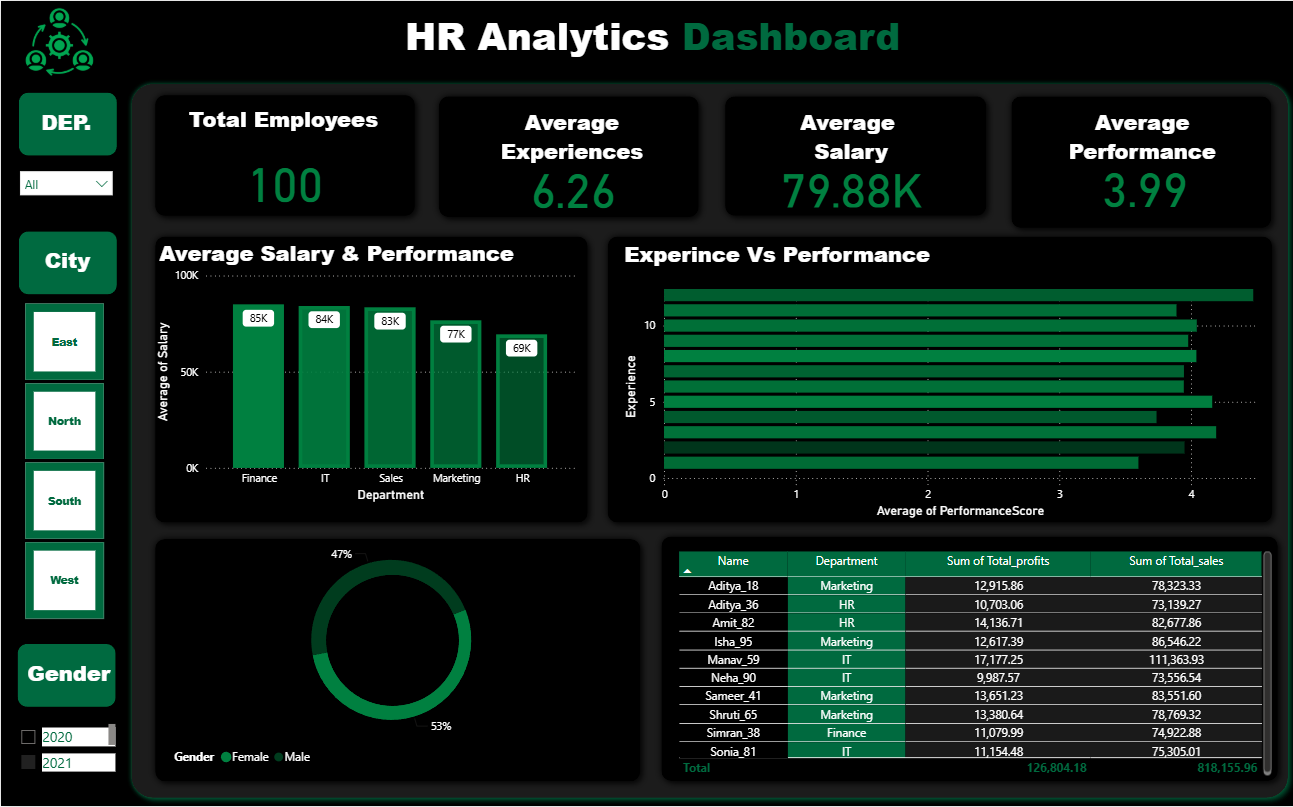

What the dashboard file says about the page in this screenshot:
{"tool":"powerbi","page":{"name":"Page 1","canvas":[1480,920],"ordinal":0},"visuals":[{"type":"shape","box":[140,86,1340,834],"z":0},{"type":"shape","box":[12,254,130,90],"z":0,"group":"g2"},{"type":"shape","box":[166,106,250,160],"z":1000},{"type":"group","id":"g1","title":"Group 1","box":[2,274,140,438],"z":1000,"group":"g2"},{"type":"shape","box":[424,106,250,160],"z":2000},{"type":"shape","box":[686,106,250,160],"z":3000},{"type":"shape","box":[1214,104,250,160],"z":4000},{"type":"shape","box":[952,104,250,160],"z":5000},{"type":"shape","box":[664,264,800,380],"z":6000},{"type":"shape","box":[170,264,494,376],"z":7000},{"type":"shape","box":[165.6,644.4,348.9,275.6],"z":8000},{"type":"shape","box":[514,644,950,276],"z":9000},{"type":"card","fields":{"Values":["CountNonNull(employees.EmployeeID)"]},"box":[240,176,100,76],"z":10000},{"type":"card","fields":{"Values":["Avg(employees.Salary)"]},"box":[982,182,182,64],"z":11000},{"type":"card","fields":{"Values":["Sum(sales.Profit)"]},"box":[702,182,212,70],"z":12000},{"type":"card","fields":{"Values":["Sum(sales.Sales)"]},"box":[460,171.4,204.3,84.3],"z":13000},{"type":"card","fields":{"Values":["Avg(employees.PerformanceScore)"]},"box":[1282,176,114,74],"z":14000},{"type":"hundredPercentStackedBarChart","fields":{"Category":["employees.Department"],"Y":["Avg(employees.Salary)"]},"box":[182,312,466,300],"z":15000},{"type":"clusteredColumnChart","fields":{"Category":["sales.Region"],"Y":["Sum(sales.Sales)"]},"box":[680,308,766,332],"z":16000},{"type":"donutChart","fields":{"Category":["dept_profit.Department"],"Y":["Sum(dept_profit.Profit_share)"]},"box":[186,656,312,248],"z":17000},{"type":"lineChart","fields":{"Category":["sales_trend.Year"],"Y":["Sum(sales_trend.Total_sales)"],"Y2":["Sum(sales_trend.Total_Profit)"]},"box":[536,702,912,202],"z":18000},{"type":"slicer","fields":{"Values":["sales.Category"]},"box":[12,184,126,68],"z":19000},{"type":"slicer","fields":{"Values":["sales.Region"]},"box":[2,338,140,374],"z":19000,"group":"g1"},{"type":"slicer","fields":{"Values":["sales.Date.Variation.Date Hierarchy.Year"]},"box":[10,822,126,70],"z":20000},{"type":"shape","title":"CIRCLE","box":[282.2,705.6,120,117.8],"z":21000},{"type":"textbox","box":[178,114,222,86],"z":22000},{"type":"textbox","box":[700,128,222,58],"z":23000},{"type":"textbox","box":[962,114,222,86],"z":24000},{"type":"textbox","box":[1226,114,222,86],"z":25000},{"type":"textbox","box":[440,126,222,58],"z":26000},{"type":"textbox","box":[186,274,414,60],"z":27000},{"type":"textbox","box":[686,282,414,60],"z":28000},{"type":"textbox","box":[536,656,414,60],"z":29000},{"type":"textbox","box":[14,274,126,50],"z":29003,"group":"g1"},{"type":"shape","box":[12,96,130,90],"z":30000},{"type":"textbox","box":[12,116,126,50],"z":31000},{"type":"group","id":"g2","title":"Group 2","box":[2,254,140,458],"z":32000},{"type":"shape","box":[10,726,130,90],"z":33000},{"type":"textbox","box":[14,746,126,50],"z":34000},{"type":"textbox","box":[10,4,1470,82],"z":35000},{"type":"image","box":[10,4,144,86],"z":36000}]}

Visuals, with their boxes in screenshot pixels (x1, y1, x2, y2), scaled from the page's 1480x920 canvas onto the 1293x807 screenshot:
shape: x1=122 y1=75 x2=1292 y2=806
shape: x1=10 y1=223 x2=124 y2=302
shape: x1=145 y1=93 x2=363 y2=233
"Group 1" group: x1=2 y1=240 x2=124 y2=625
shape: x1=370 y1=93 x2=589 y2=233
shape: x1=599 y1=93 x2=818 y2=233
shape: x1=1061 y1=91 x2=1279 y2=232
shape: x1=832 y1=91 x2=1050 y2=232
shape: x1=580 y1=232 x2=1279 y2=565
shape: x1=149 y1=232 x2=580 y2=561
shape: x1=145 y1=565 x2=449 y2=806
shape: x1=449 y1=565 x2=1279 y2=806
card - CountNonNull(employees.EmployeeID): x1=210 y1=154 x2=297 y2=221
card - Avg(employees.Salary): x1=858 y1=160 x2=1017 y2=216
card - Sum(sales.Profit): x1=613 y1=160 x2=799 y2=221
card - Sum(sales.Sales): x1=402 y1=150 x2=580 y2=224
card - Avg(employees.PerformanceScore): x1=1120 y1=154 x2=1220 y2=219
hundredPercentStackedBarChart - employees.Department x Avg(employees.Salary): x1=159 y1=274 x2=566 y2=537
clusteredColumnChart - sales.Region x Sum(sales.Sales): x1=594 y1=270 x2=1263 y2=561
donutChart - dept_profit.Department x Sum(dept_profit.Profit_share): x1=162 y1=575 x2=435 y2=793
lineChart - sales_trend.Year x Sum(sales_trend.Total_sales): x1=468 y1=616 x2=1265 y2=793
slicer - sales.Category: x1=10 y1=161 x2=121 y2=221
slicer - sales.Region: x1=2 y1=296 x2=124 y2=625
slicer - sales.Date.Variation.Date Hierarchy.Year: x1=9 y1=721 x2=119 y2=782
"CIRCLE" shape: x1=247 y1=619 x2=351 y2=722
textbox: x1=156 y1=100 x2=349 y2=175
textbox: x1=612 y1=112 x2=806 y2=163
textbox: x1=840 y1=100 x2=1034 y2=175
textbox: x1=1071 y1=100 x2=1265 y2=175
textbox: x1=384 y1=111 x2=578 y2=161
textbox: x1=162 y1=240 x2=524 y2=293
textbox: x1=599 y1=247 x2=961 y2=300
textbox: x1=468 y1=575 x2=830 y2=628
textbox: x1=12 y1=240 x2=122 y2=284
shape: x1=10 y1=84 x2=124 y2=163
textbox: x1=10 y1=102 x2=121 y2=146
"Group 2" group: x1=2 y1=223 x2=124 y2=625
shape: x1=9 y1=637 x2=122 y2=716
textbox: x1=12 y1=654 x2=122 y2=698
textbox: x1=9 y1=4 x2=1292 y2=75
image: x1=9 y1=4 x2=135 y2=79
